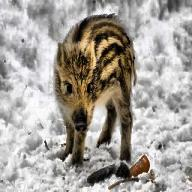boar: (52, 13, 136, 167)
